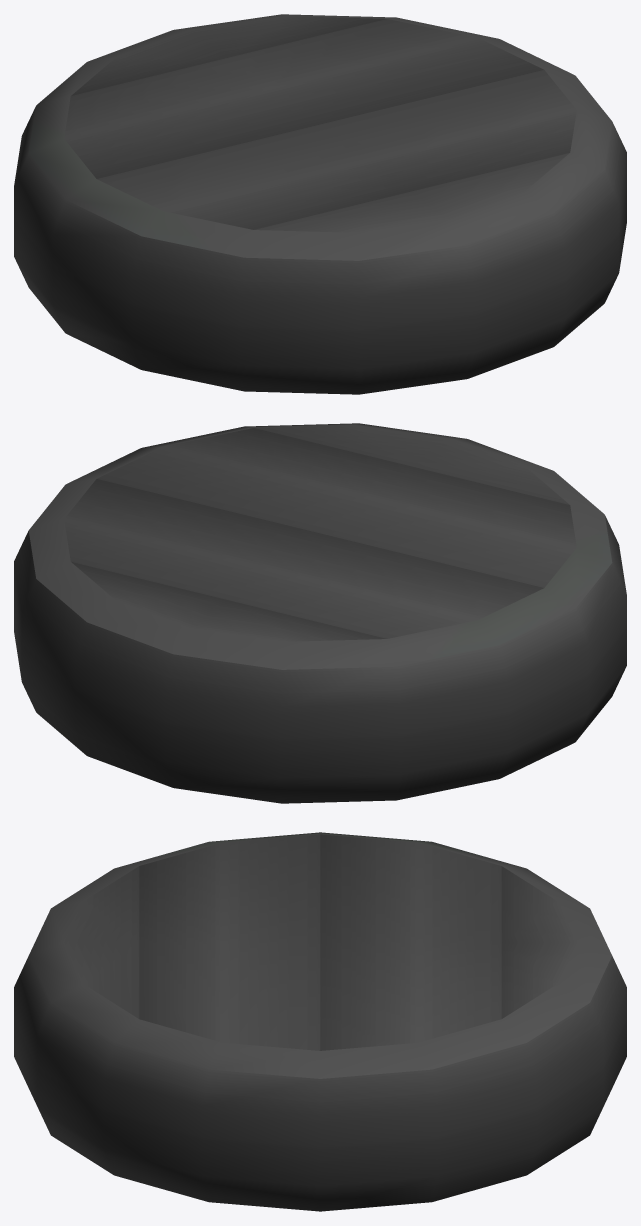
Rendered from kaykit-restaurant-bits-food-ingredient-burger-trash.glb.
The picture shows the model from 3 angles, top to bottom: view 1: azimuth 30°, elevation 25°; view 2: azimuth 150°, elevation 25°; view 3: azimuth 270°, elevation 25°; orthographic projection.
Parts seen in each view (by area): view 1: food_ingredient_burger_trash; view 2: food_ingredient_burger_trash; view 3: food_ingredient_burger_trash.
Boxes of the visible parts, x1,y1,x2,y2 form: food_ingredient_burger_trash: [14, 14, 626, 394]; food_ingredient_burger_trash: [14, 423, 626, 803]; food_ingredient_burger_trash: [14, 832, 626, 1211].
Size of the model in its own units: 0.7 by 0.2 by 0.7.
1 material, 1 textured.
